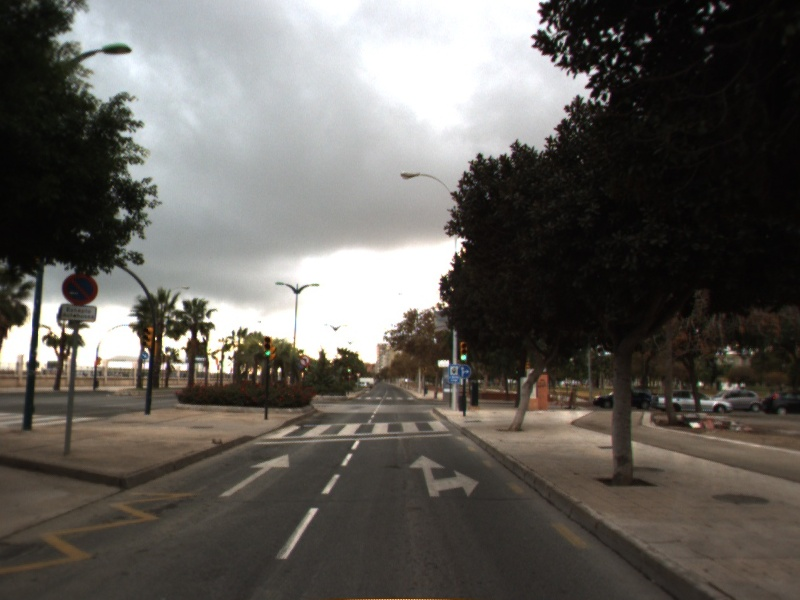STRAIGHT: (217, 452, 291, 499)
STRAIGHT_RIGHT: (407, 453, 483, 502)
